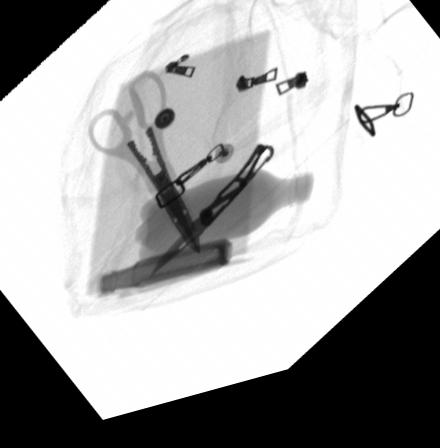Knife: (147, 156, 274, 289)
Scissors: (89, 77, 201, 264)
